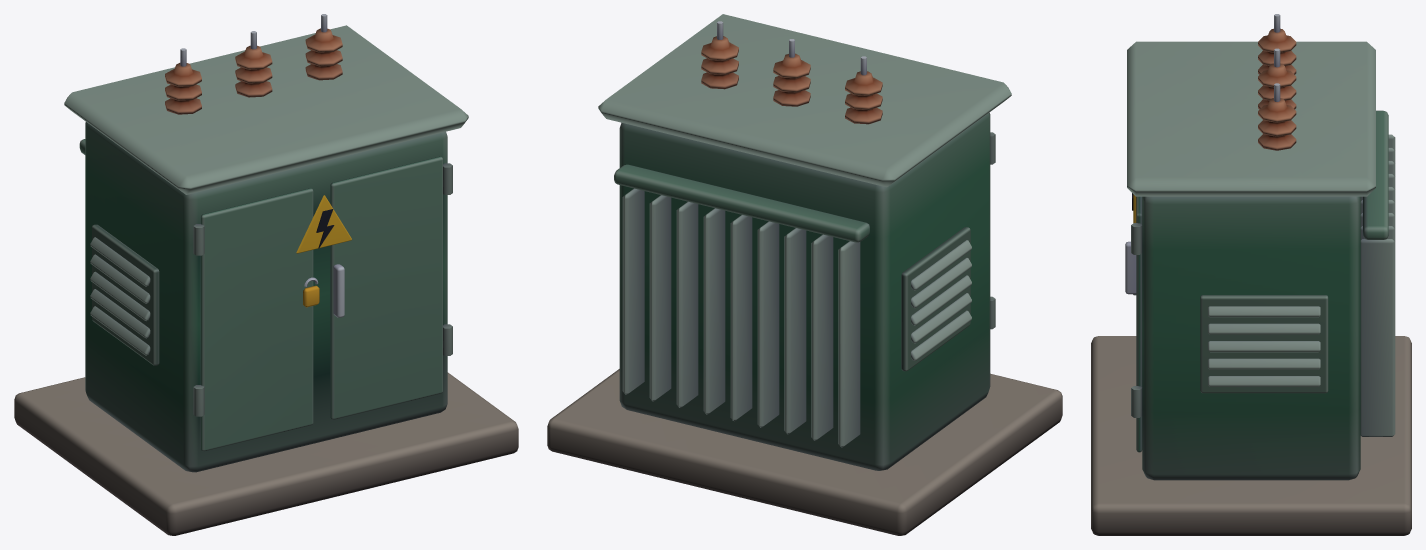
The model's file is transformateur.glb.
The picture shows the model from 3 angles, left to right: view 1: azimuth 30°, elevation 25°; view 2: azimuth 150°, elevation 25°; view 3: azimuth 270°, elevation 25°; orthographic projection. The views are drawn at different scales.
Parts seen in each view (by area): view 1: transformateur; view 2: transformateur; view 3: transformateur.
Part boxes in pixels (left/top/right/bottom): transformateur: left=14, top=14, right=518, bottom=535; transformateur: left=547, top=14, right=1062, bottom=535; transformateur: left=1091, top=14, right=1411, bottom=535.
Bounding box in the file's own units: 1.6 × 1.73 × 1.25.
